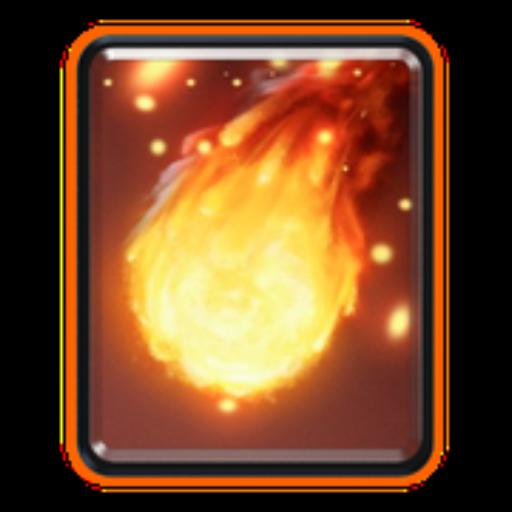fireball: (86, 60, 418, 454)
